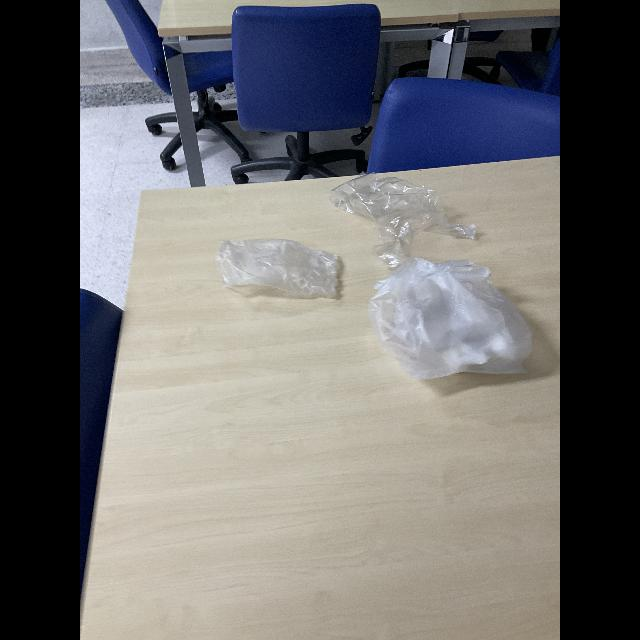plastic_bag: (369, 258, 535, 388), (333, 160, 483, 260), (210, 234, 342, 304)
